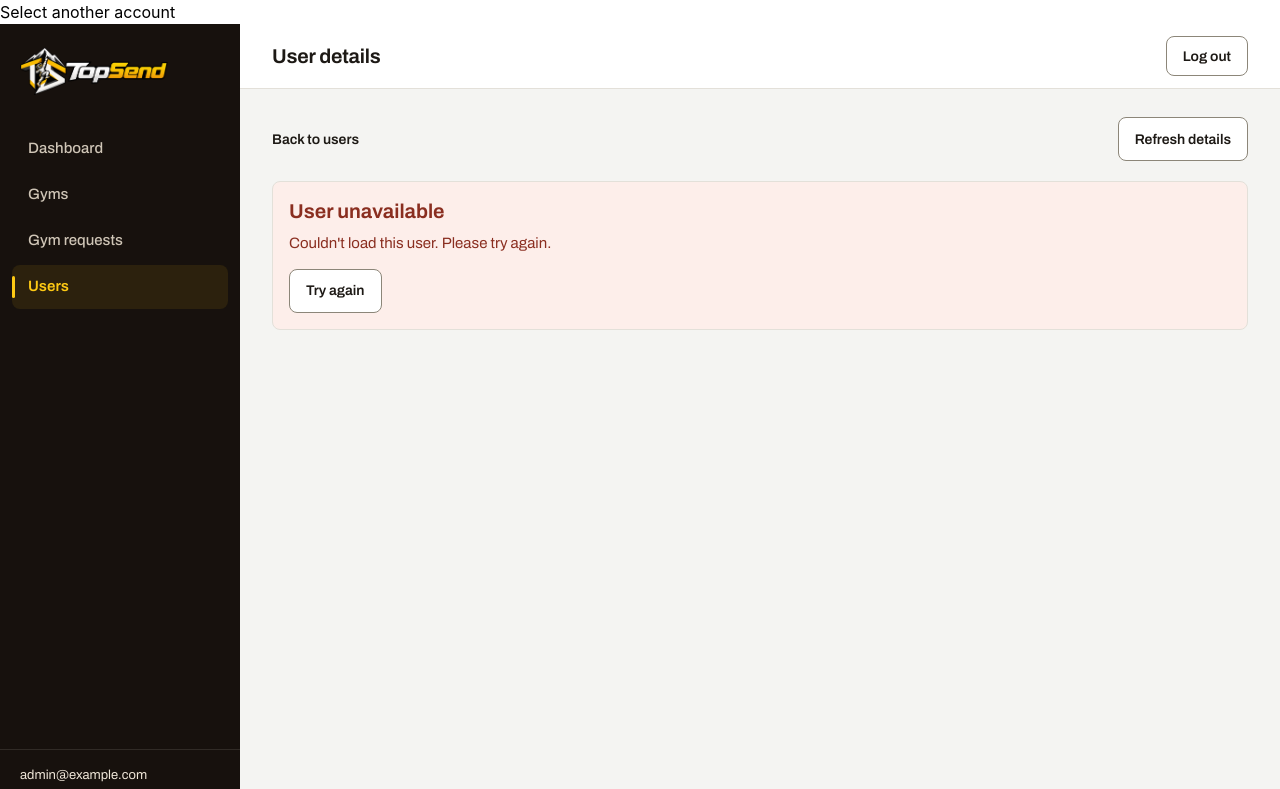
Test: US-008 selection and US-009 selected account information › shows a safe error and retries instead of revealing internal server details
Expected: the text "Couldn't load this user. Please try again." is shown, [289,235,551,251]
Click the button "Try again" at (335, 290), box [289,268,382,312]
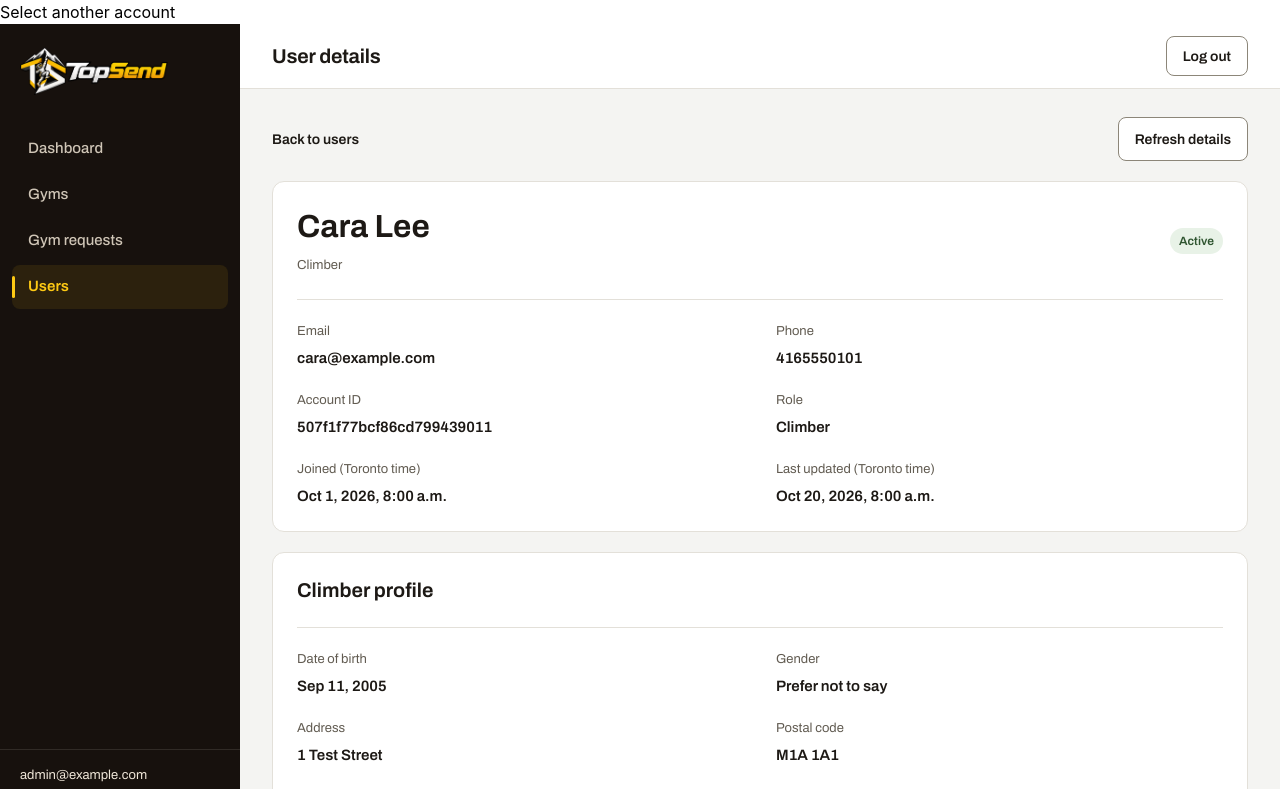
Expected: the heading "Cara Lee" is shown, [297,206,430,248]
